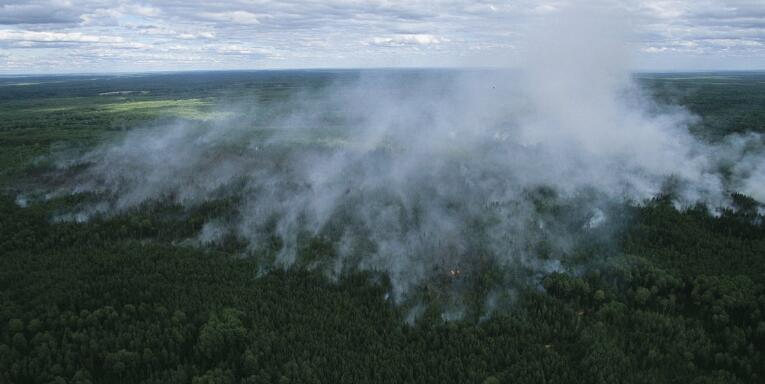yanwu: (15, 1, 743, 305)
